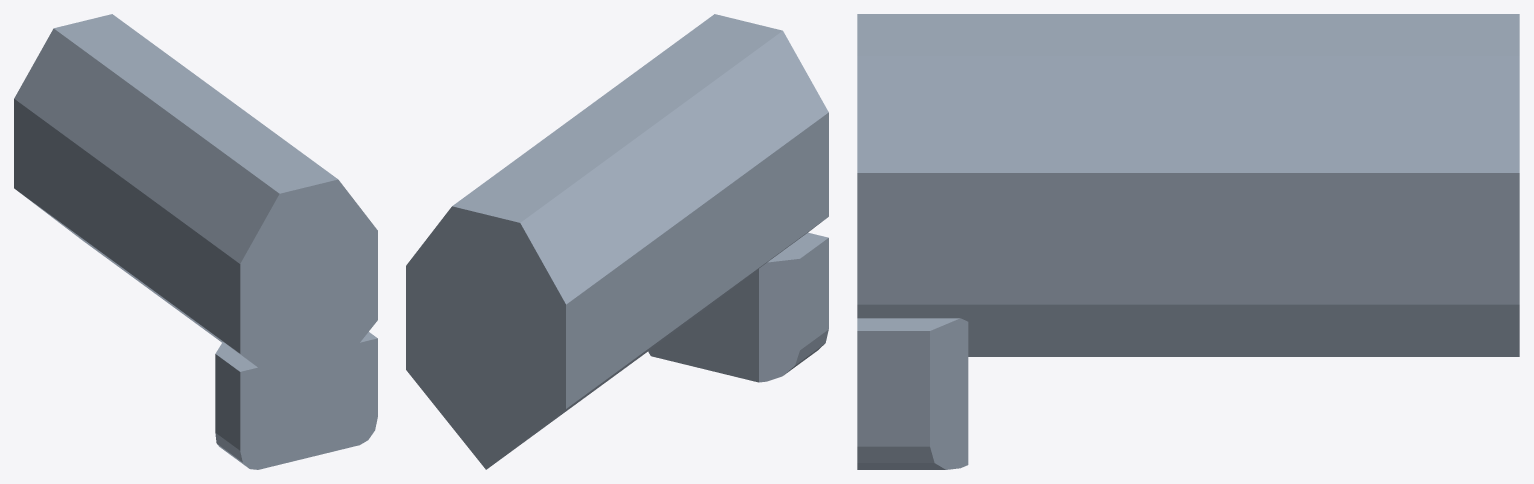
Rendered from leg.obj.
3 renders of one model, left to right at view 1: azimuth 30°, elevation 25°; view 2: azimuth 150°, elevation 25°; view 3: azimuth 270°, elevation 25°, orthographic. The views are drawn at different scales.
Parts seen in each view (by area): view 1: 1; view 2: 1; view 3: 1.
Boxes of the visible parts, x1,y1,x2,y2 form: 1: (14, 14, 377, 469); 1: (406, 14, 828, 469); 1: (857, 14, 1519, 469).
Size of the model in its own units: 0.0703 by 0.1323 by 0.2.
